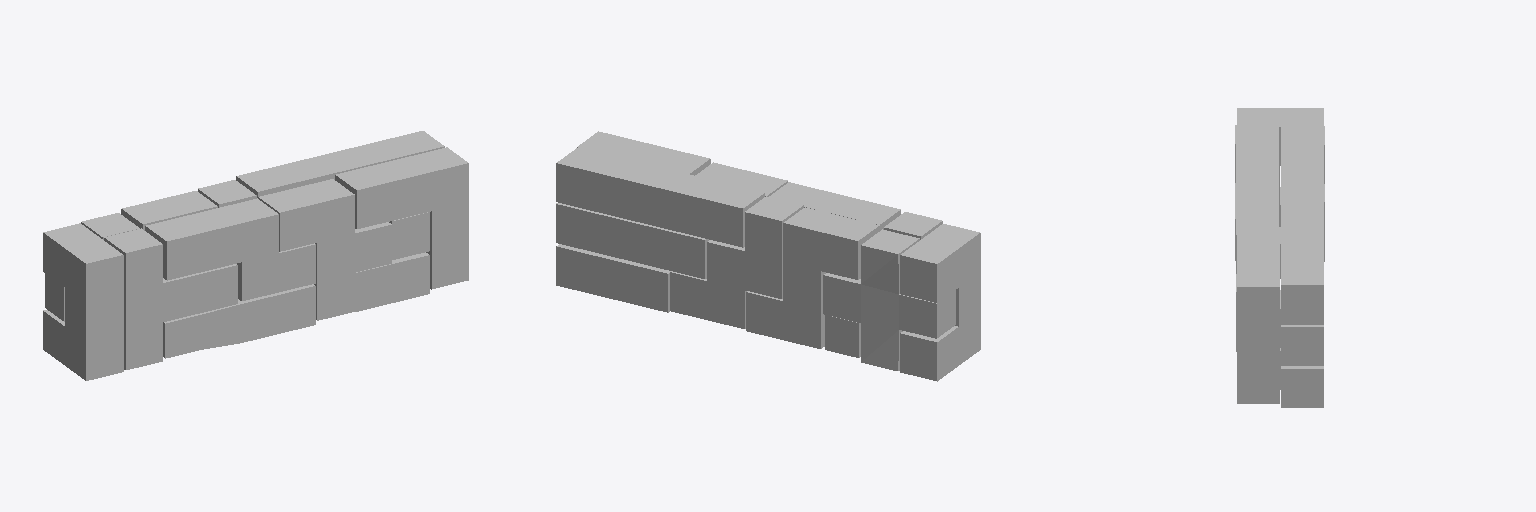
File: Quader2x3x10.obj
The picture shows the model from 3 angles: view 1: azimuth 30°, elevation 25°; view 2: azimuth 150°, elevation 25°; view 3: azimuth 270°, elevation 25°; orthographic projection.
Visible parts, largest first — view 1: Cube.003_Cube.004, Cube.005_Cube.012, Cube.008_Cube.015, Cube.006_Cube.013, Cube.004_Cube.005, Cube.007_Cube.014, Cube.010_Cube.017, Cube.009_Cube.016, Cube.001_Cube.002, Cube.002_Cube.003, Cube.011_Cube.018, Cube_Cube.001; view 2: Cube.010_Cube.017, Cube.001_Cube.002, Cube.003_Cube.004, Cube.002_Cube.003, Cube_Cube.001, Cube.011_Cube.018, Cube.009_Cube.016, Cube.008_Cube.015, Cube.005_Cube.012, Cube.006_Cube.013, Cube.007_Cube.014, Cube.004_Cube.005; view 3: Cube.008_Cube.015, Cube.010_Cube.017, Cube.005_Cube.012, Cube.009_Cube.016, Cube.011_Cube.018, Cube.003_Cube.004, Cube.006_Cube.013, Cube.001_Cube.002, Cube.004_Cube.005, Cube.002_Cube.003, Cube_Cube.001.
Part boxes in pixels (x1,y1,x2,y2): Cube.003_Cube.004: (43,223,123,380); Cube.005_Cube.012: (145,198,315,300); Cube.008_Cube.015: (335,147,468,289); Cube.006_Cube.013: (258,179,391,320); Cube.004_Cube.005: (104,228,237,369); Cube.007_Cube.014: (163,284,315,358); Cube.010_Cube.017: (236,131,444,197); Cube.009_Cube.016: (355,252,429,311); Cube.001_Cube.002: (121,191,217,230); Cube.002_Cube.003: (45,213,139,321); Cube.011_Cube.018: (389,212,429,259); Cube_Cube.001: (198,180,256,207); Cube.010_Cube.017: (556,147,764,247); Cube.001_Cube.002: (746,207,879,348); Cube.003_Cube.004: (900,224,980,381); Cube.002_Cube.003: (823,229,955,370); Cube_Cube.001: (670,196,803,328); Cube.011_Cube.018: (556,203,708,278); Cube.009_Cube.016: (556,244,670,312); Cube.008_Cube.015: (577,131,710,175); Cube.005_Cube.012: (769,182,900,230); Cube.006_Cube.013: (695,162,787,196); Cube.007_Cube.014: (825,315,860,357); Cube.004_Cube.005: (884,212,942,239); Cube.008_Cube.015: (1237,232,1279,403); Cube.010_Cube.017: (1281,194,1323,324); Cube.005_Cube.012: (1236,144,1278,197); Cube.009_Cube.016: (1280,348,1323,407); Cube.011_Cube.018: (1280,290,1323,365); Cube.003_Cube.004: (1237,108,1323,226); Cube.006_Cube.013: (1236,198,1278,351); Cube.001_Cube.002: (1281,143,1323,177); Cube.004_Cube.005: (1235,125,1278,260); Cube.002_Cube.003: (1281,126,1324,261); Cube_Cube.001: (1281,178,1323,193).
Size of the model in its own units: 20.46 by 6.44 by 4.13.